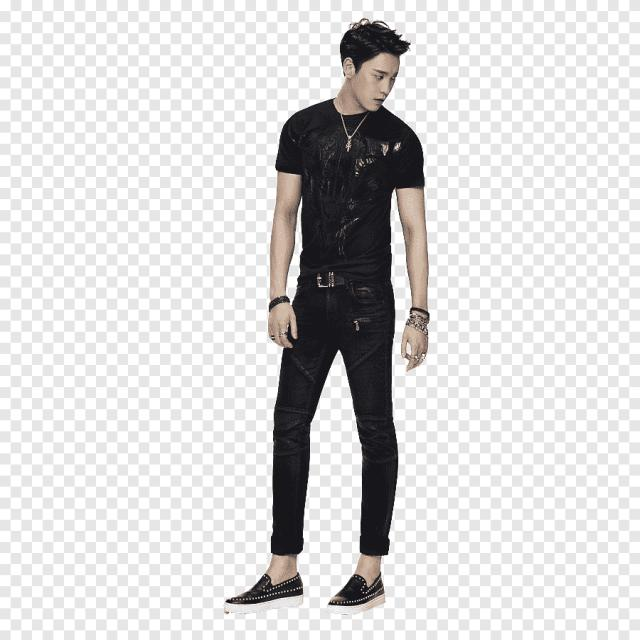standing: (216, 16, 432, 615)
